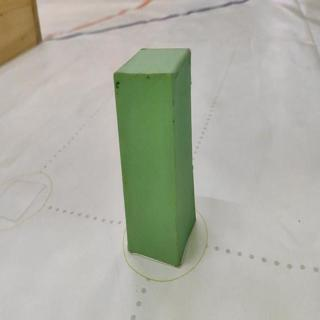greenbox: (111, 45, 200, 268)
